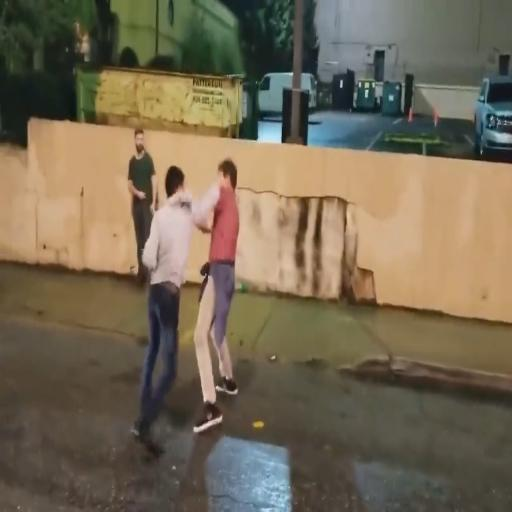violencia: (128, 149, 250, 459)
